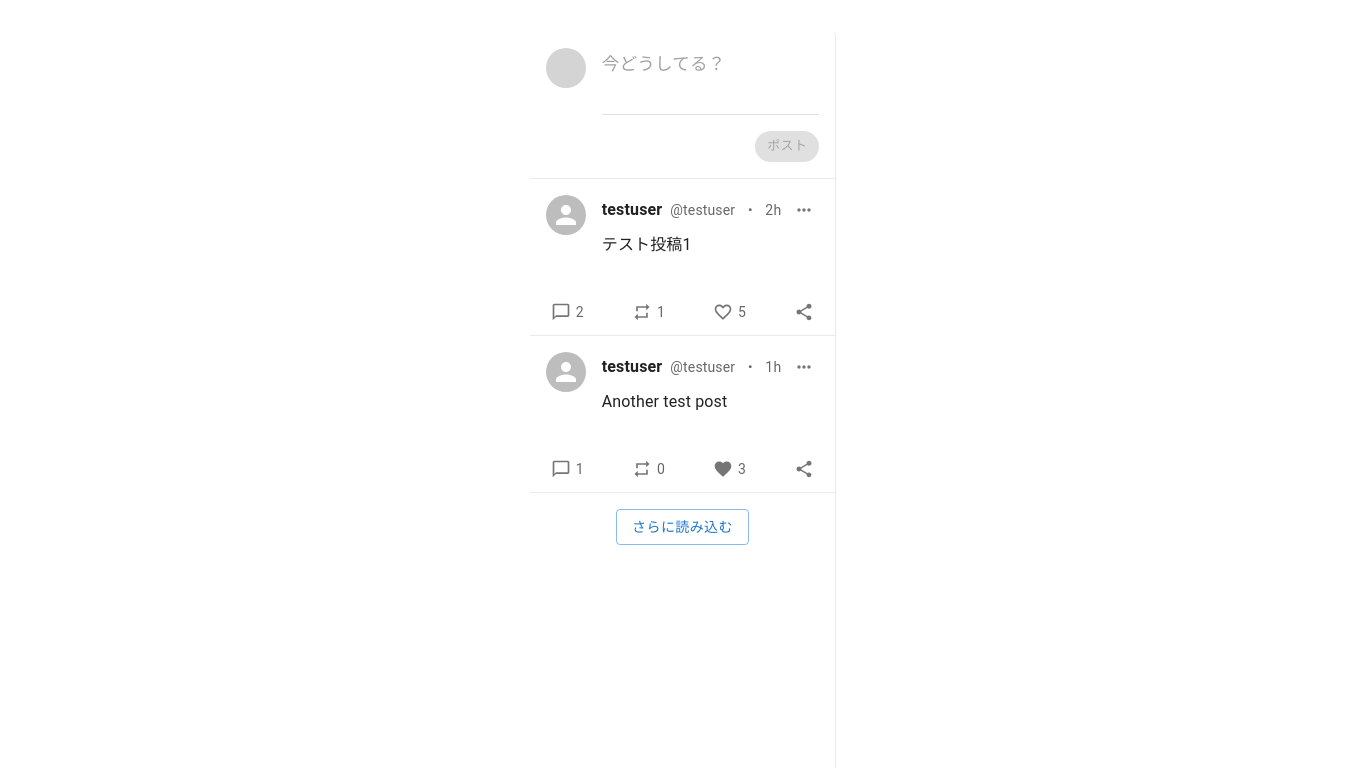
Test case: フィード › 編集ボタンをクリックすると編集ダイアログが開く
Click the button without text next to "2h": [804, 210] box top-left (789, 195), bottom-right (819, 225)
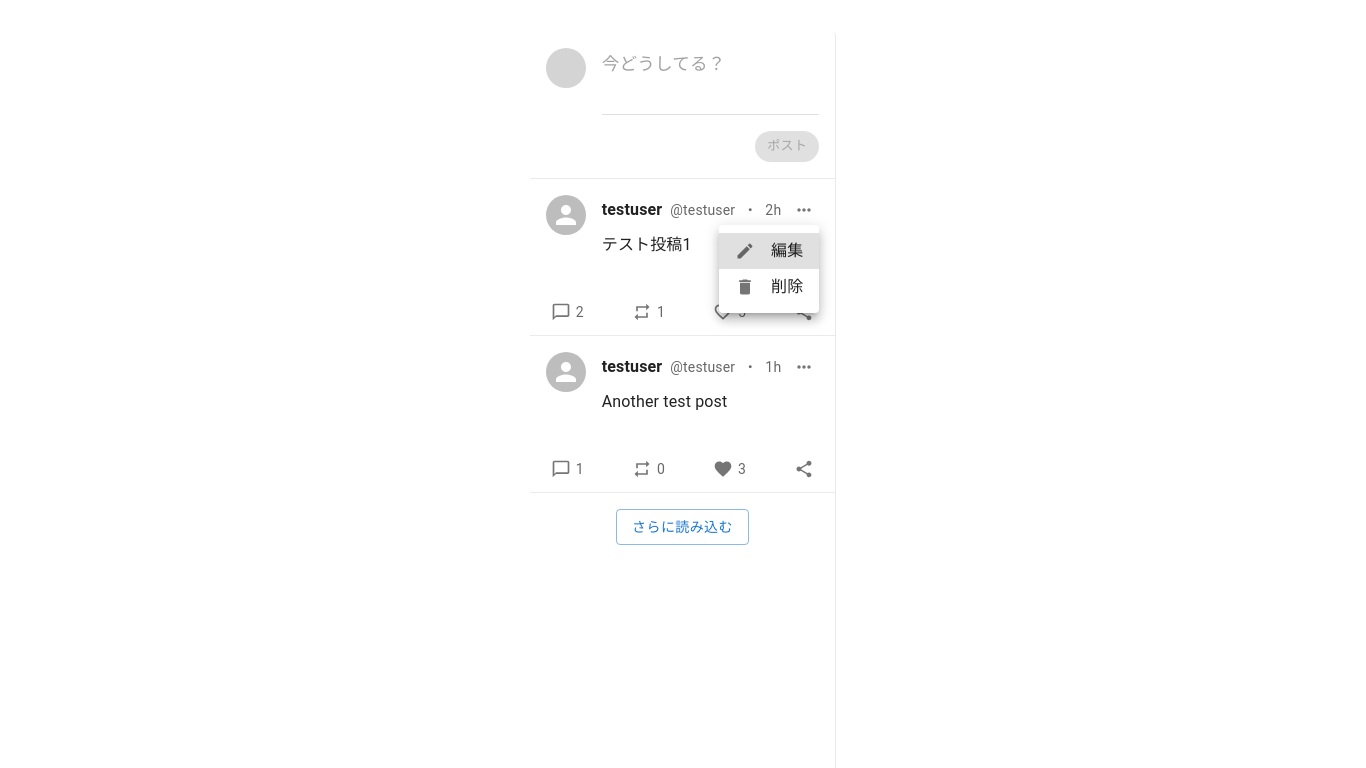
Click the menu item "編集": [769, 251] box top-left (719, 233), bottom-right (819, 269)
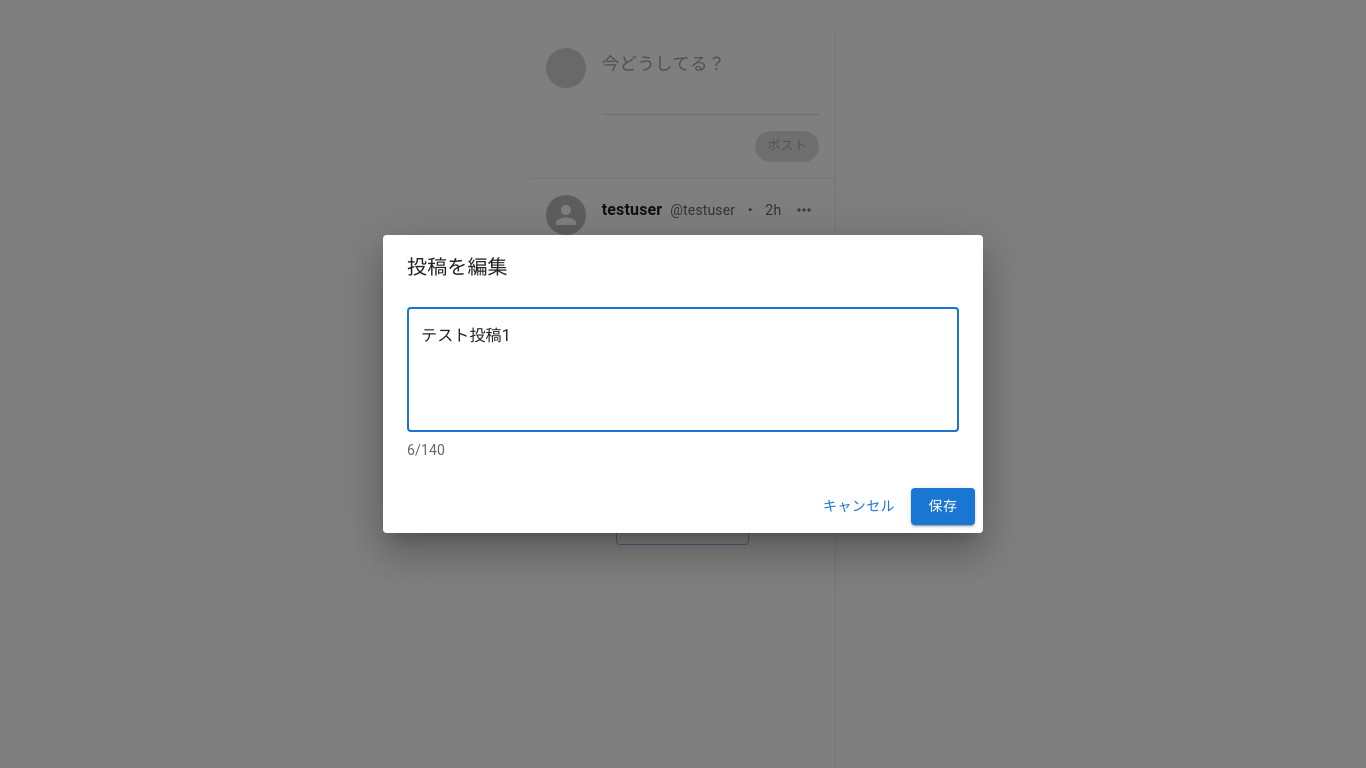
Expected: the heading "投稿を編集" is shown, top-left (407, 255), bottom-right (508, 279)
Expected: the text box showing "テスト投稿1" is shown, top-left (421, 324), bottom-right (945, 416)
